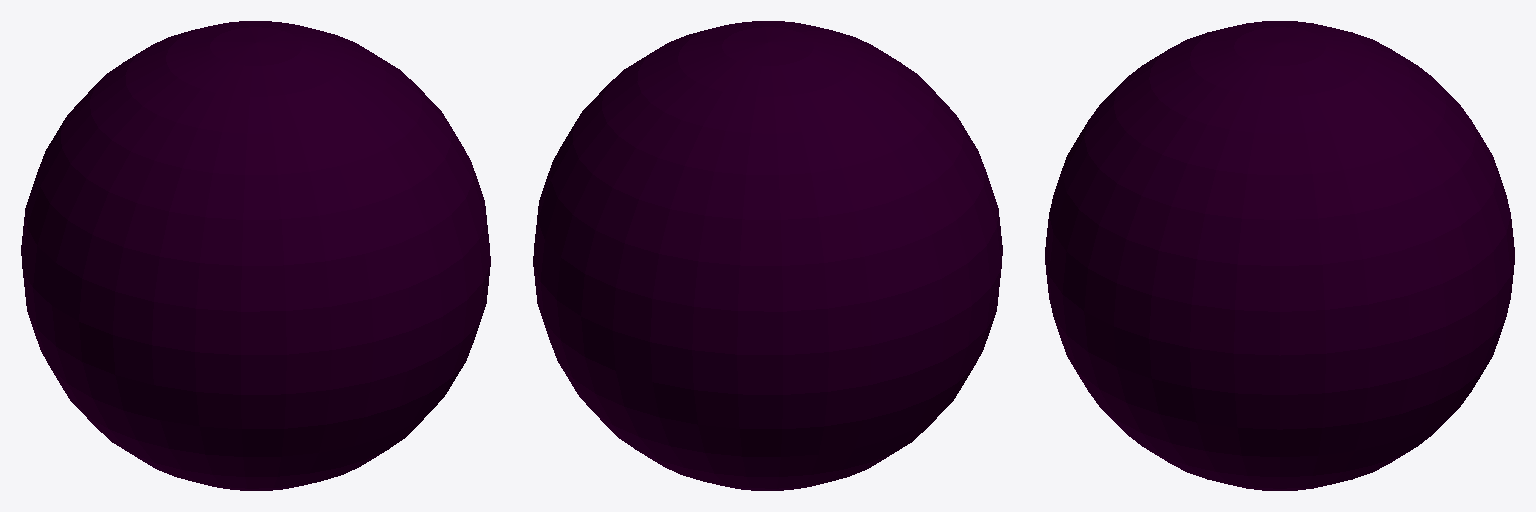
File: PurpleShpere.obj
3 renders of one model, left to right at view 1: azimuth 30°, elevation 25°; view 2: azimuth 150°, elevation 25°; view 3: azimuth 270°, elevation 25°, orthographic.
Parts seen in each view (by area): view 1: Sphere; view 2: Sphere; view 3: Sphere.
Boxes of the visible parts, x1=… form: Sphere: x1=21, y1=21, x2=490, y2=490; Sphere: x1=533, y1=21, x2=1002, y2=490; Sphere: x1=1045, y1=21, x2=1514, y2=490.
Size of the model in its own units: 2 by 2 by 2.